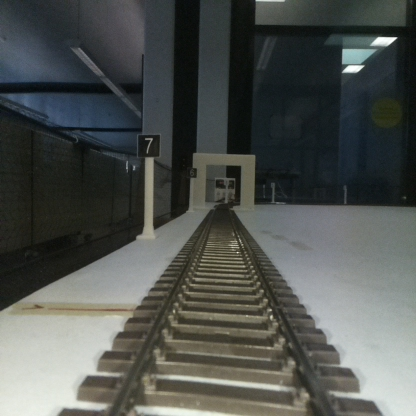black-info-6: (188, 167, 196, 211)
black-info-7: (138, 133, 160, 237)
